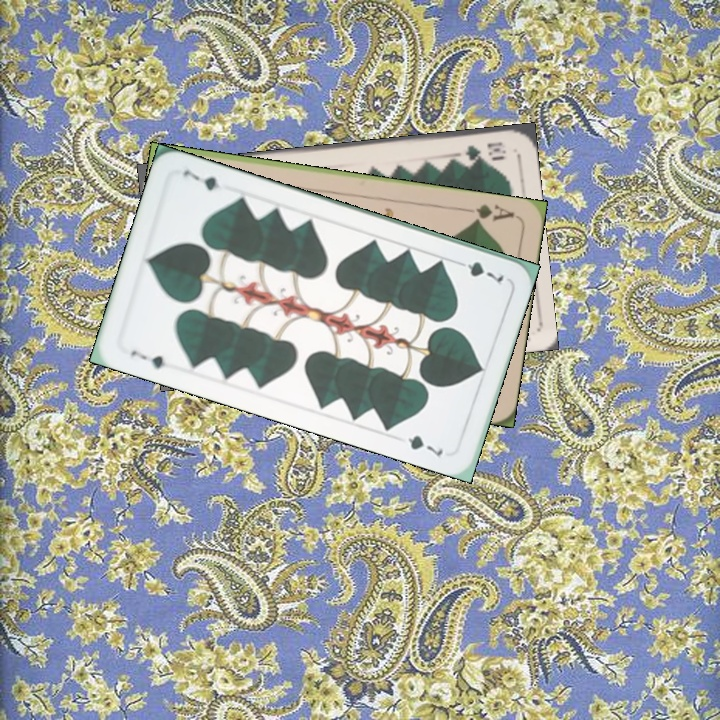G10: (461, 138, 509, 163)
G7: (451, 257, 507, 286), (126, 346, 168, 372)
GA: (459, 200, 517, 226)
